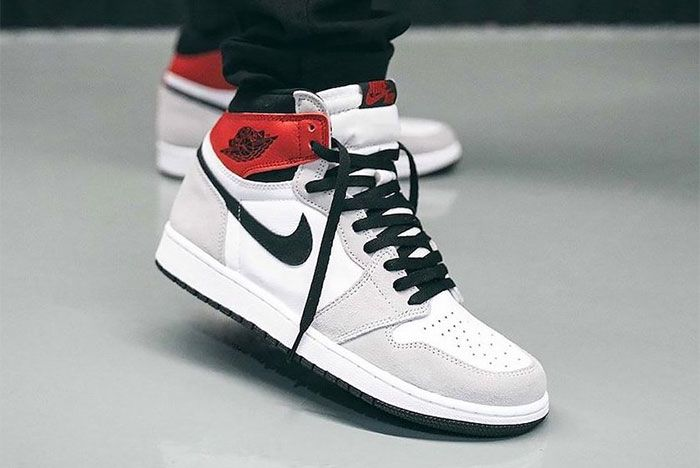Jordan 1: (152, 74, 556, 444)
